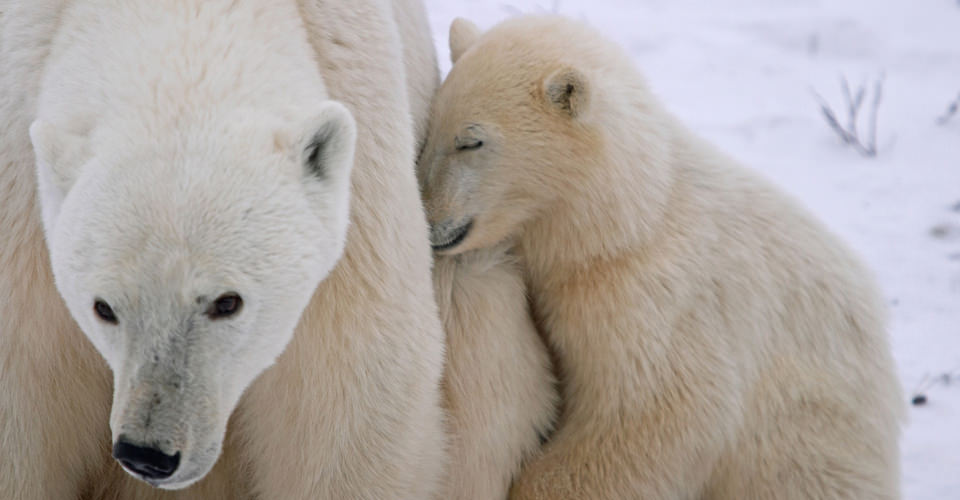Polar Bear: (423, 27, 939, 500), (7, 2, 420, 500)
